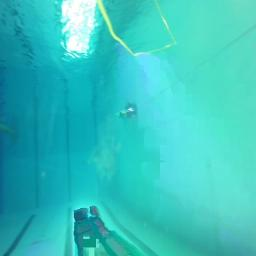Full: (124, 104, 138, 118)
